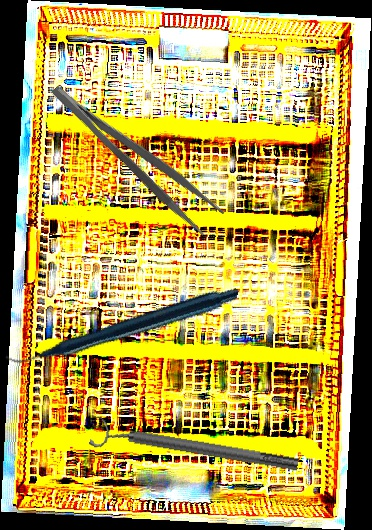Dressing Forceps: (47, 68, 226, 240)
Fixation Ring: (88, 413, 301, 483)
Handpiece: (4, 224, 240, 425)
